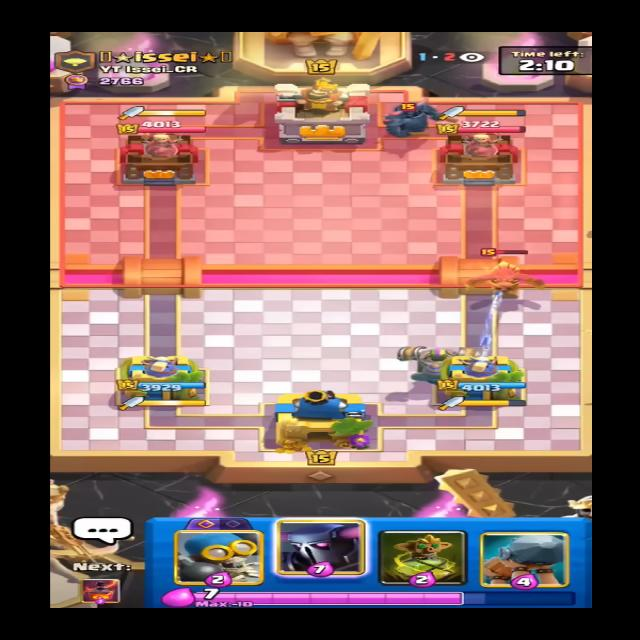pekka: (376, 98, 456, 140)
phoenix: (450, 247, 570, 294)
